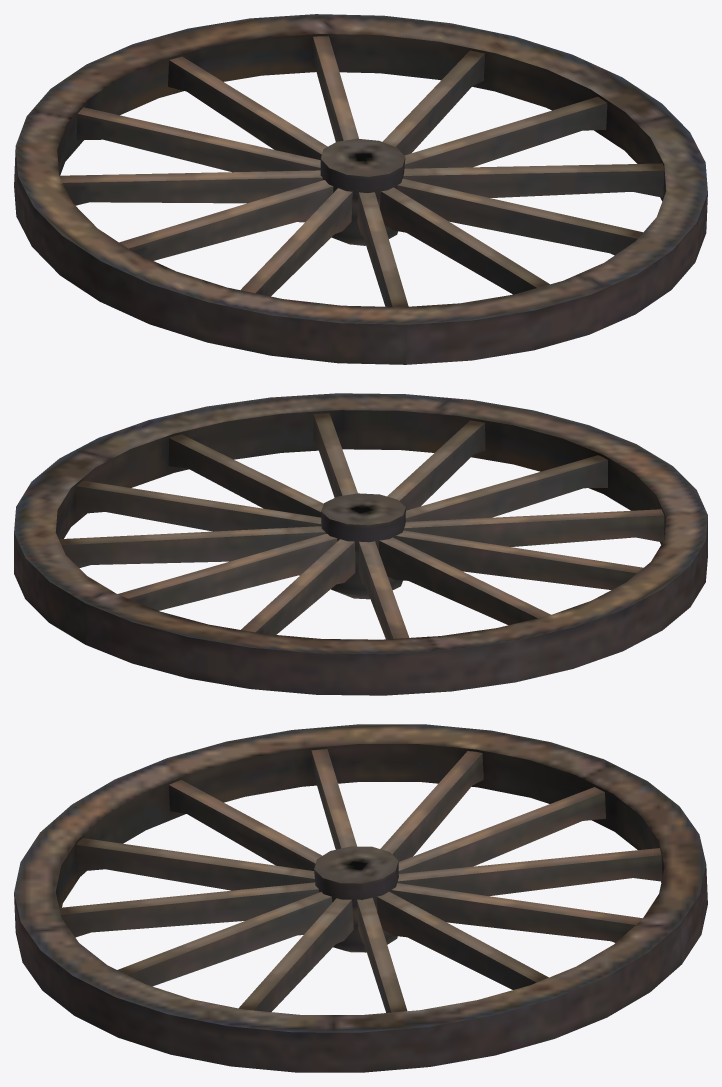
The model's file is hd_dec_EU_004_EUDecor_Wheel.glb.
The picture shows the model from 3 angles, top to bottom: view 1: azimuth 30°, elevation 25°; view 2: azimuth 150°, elevation 25°; view 3: azimuth 270°, elevation 25°; orthographic projection.
Parts seen in each view (by area): view 1: set_0_group_0; view 2: set_0_group_0; view 3: set_0_group_0.
Boxes of the visible parts, x1,y1,x2,y2 form: set_0_group_0: (14, 14, 707, 364); set_0_group_0: (14, 393, 707, 695); set_0_group_0: (14, 724, 707, 1072).
Bounding box in the file's own units: 0.9407 × 0.1282 × 0.941.
Materials: 1 (1 with a texture image).
